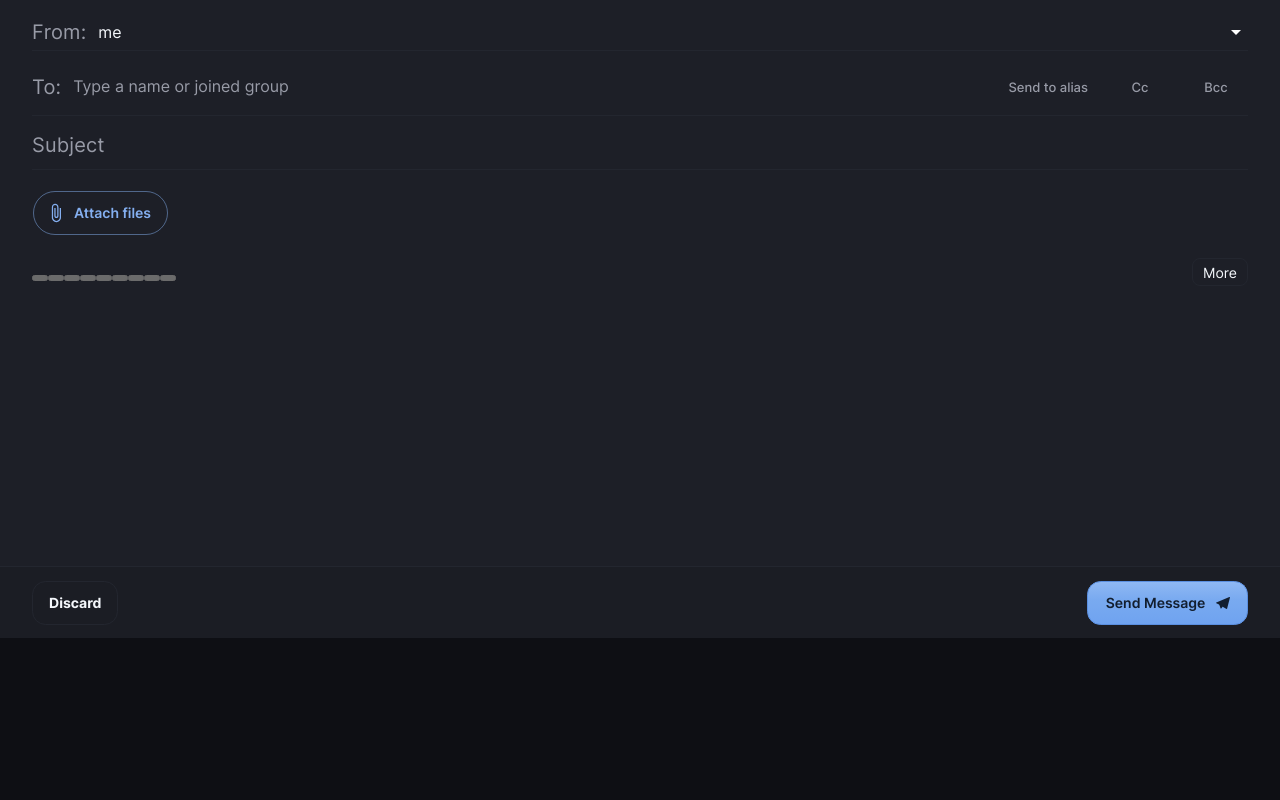
Scenario: Compose: what Send to alias, Cc and Bcc mean › Send to alias: the tooltip opens on hover and describes the button
Hover over the button "Send to alias" at (1048, 87), box [1000, 65, 1096, 109]
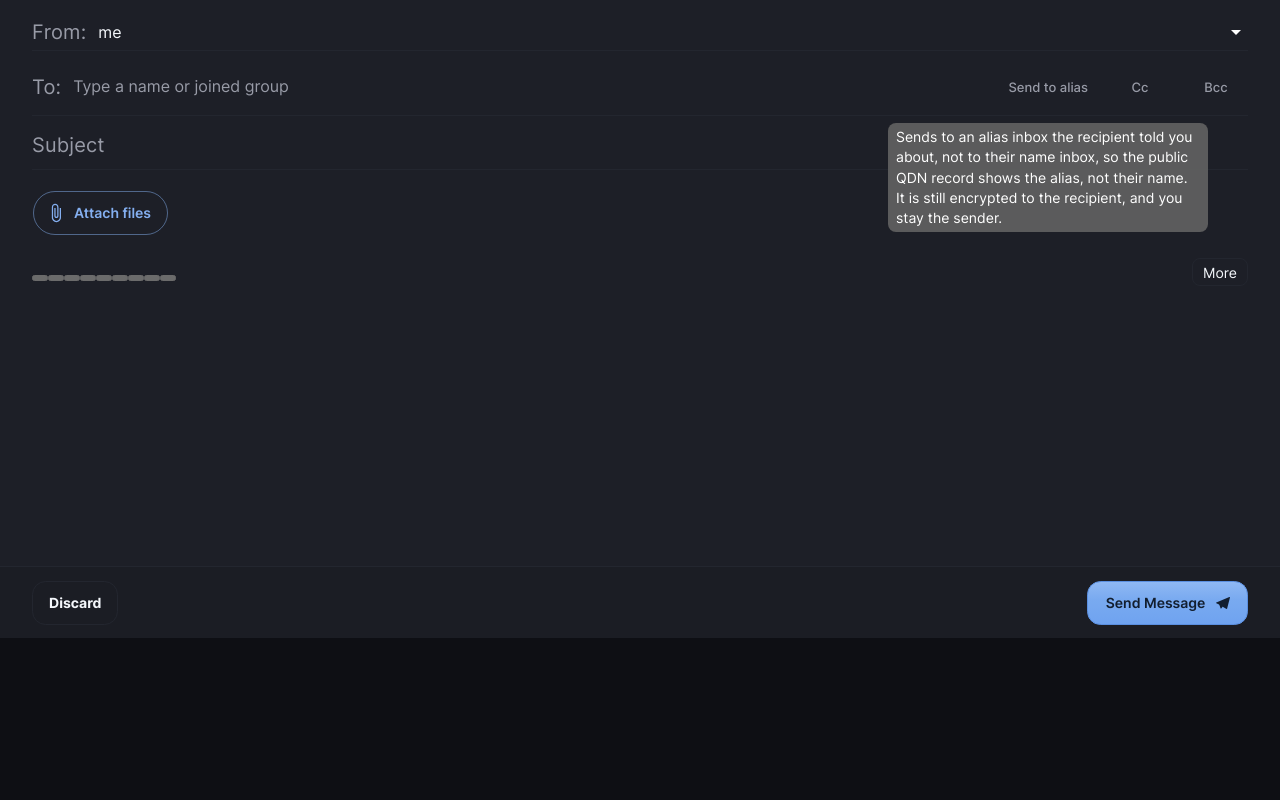
Expected: the tooltip shows "Sends to an alias inbox the recipient told you about, not to their name inbox, so the public QDN record shows the alias, not their name. It is still encrypted t", [896, 128, 1192, 226]
